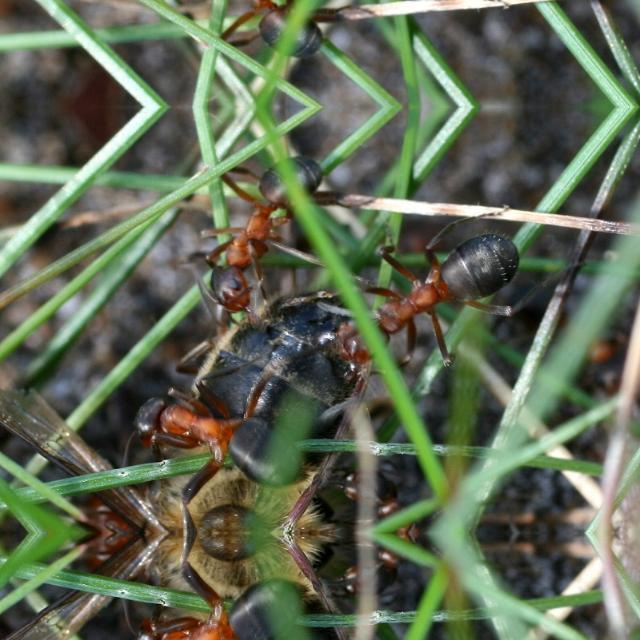Formica: (318, 214, 552, 376), (127, 362, 310, 492), (204, 155, 328, 305), (126, 570, 310, 640), (204, 0, 328, 56)
